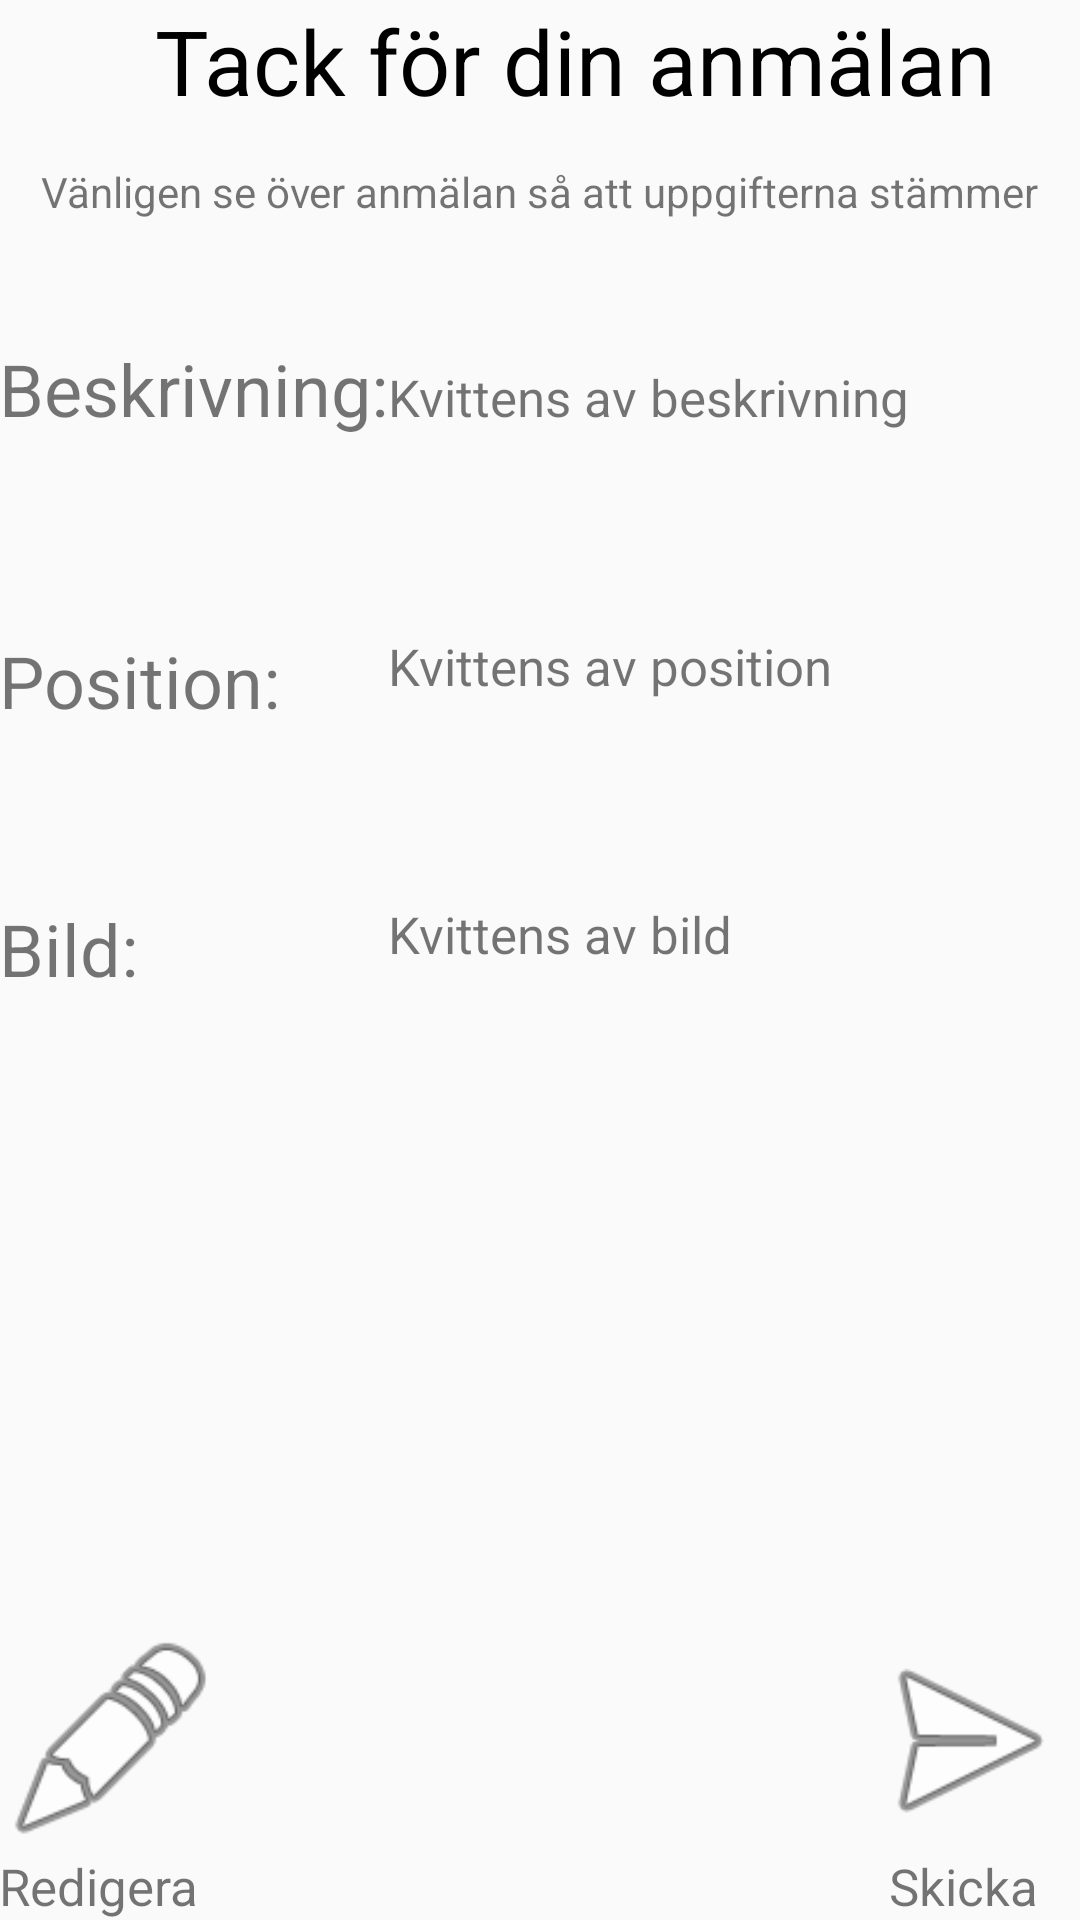

Named icons in this screenshot (1080×1920) and their centers, point (x, y):
send: point (970, 1740)
